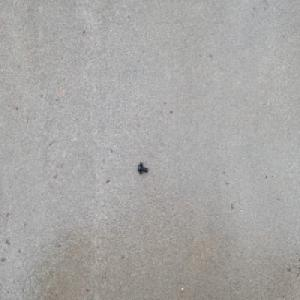BoltWasher: (137, 161, 148, 174)
